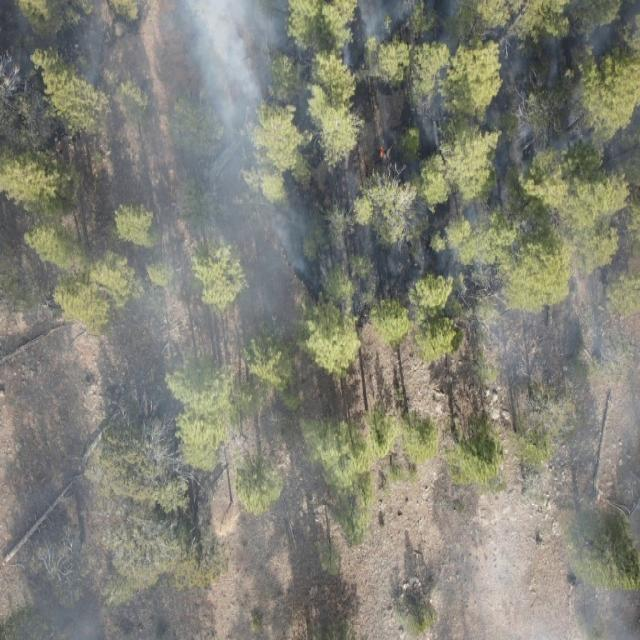fire: (376, 144, 389, 162)
smoke: (0, 0, 317, 640), (411, 91, 640, 396), (492, 395, 640, 640), (341, 0, 640, 91)
